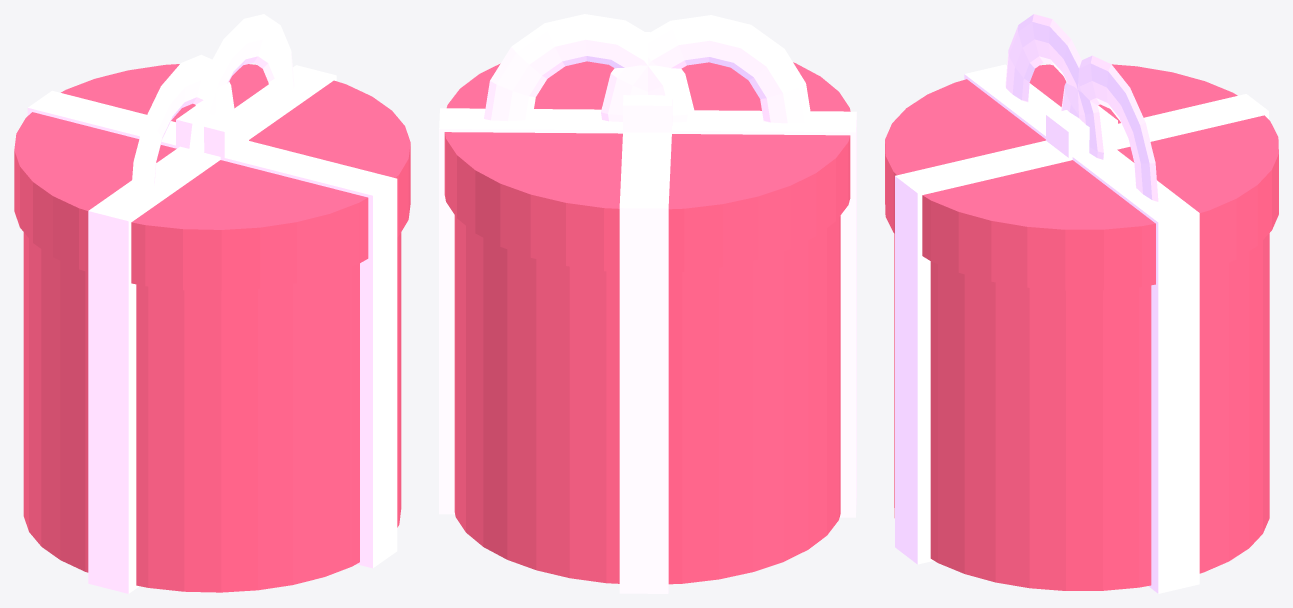
Rendered from Tmpl_Round_Root_240.glb.
3 renders of one model, left to right at view 1: azimuth 30°, elevation 25°; view 2: azimuth 150°, elevation 25°; view 3: azimuth 270°, elevation 25°, orthographic. The views are drawn at different scales.
Visible parts, largest first — view 1: Tmpl_Round_Base.238, Tmpl_Round_Lid.238, Tmpl_Round_Ribbon_X.238, Tmpl_Round_Ribbon_Y.238, Tmpl_Round_BowL.238, Tmpl_Round_BowR.238, Tmpl_Round_BowKnot.238; view 2: Tmpl_Round_Base.238, Tmpl_Round_Lid.238, Tmpl_Round_Ribbon_Y.238, Tmpl_Round_Ribbon_X.238, Tmpl_Round_BowL.238, Tmpl_Round_BowR.238, Tmpl_Round_BowKnot.238; view 3: Tmpl_Round_Base.238, Tmpl_Round_Lid.238, Tmpl_Round_Ribbon_X.238, Tmpl_Round_Ribbon_Y.238, Tmpl_Round_BowR.238, Tmpl_Round_BowL.238, Tmpl_Round_BowKnot.238.
Part boxes in pixels (box(x1,y1,x2,y2)): Tmpl_Round_Base.238: box(23, 232, 401, 592); Tmpl_Round_Lid.238: box(14, 64, 410, 290); Tmpl_Round_Ribbon_X.238: box(88, 65, 336, 593); Tmpl_Round_Ribbon_Y.238: box(27, 90, 397, 568); Tmpl_Round_BowL.238: box(189, 14, 294, 158); Tmpl_Round_BowR.238: box(130, 54, 234, 200); Tmpl_Round_BowKnot.238: box(176, 106, 248, 160); Tmpl_Round_Base.238: box(454, 215, 840, 584); Tmpl_Round_Lid.238: box(444, 61, 850, 272); Tmpl_Round_Ribbon_Y.238: box(619, 32, 671, 593); Tmpl_Round_Ribbon_X.238: box(439, 108, 856, 517); Tmpl_Round_BowL.238: box(484, 14, 694, 122); Tmpl_Round_BowR.238: box(601, 15, 811, 123); Tmpl_Round_BowKnot.238: box(623, 95, 672, 132); Tmpl_Round_Base.238: box(894, 233, 1269, 590); Tmpl_Round_Lid.238: box(885, 64, 1278, 290); Tmpl_Round_Ribbon_X.238: box(964, 64, 1199, 593); Tmpl_Round_Ribbon_Y.238: box(895, 94, 1268, 564); Tmpl_Round_BowR.238: box(1005, 14, 1103, 159); Tmpl_Round_BowL.238: box(1061, 55, 1158, 201); Tmpl_Round_BowKnot.238: box(1046, 105, 1117, 159).
Size of the model in its own units: 0.7666 by 1.02 by 0.7666.
